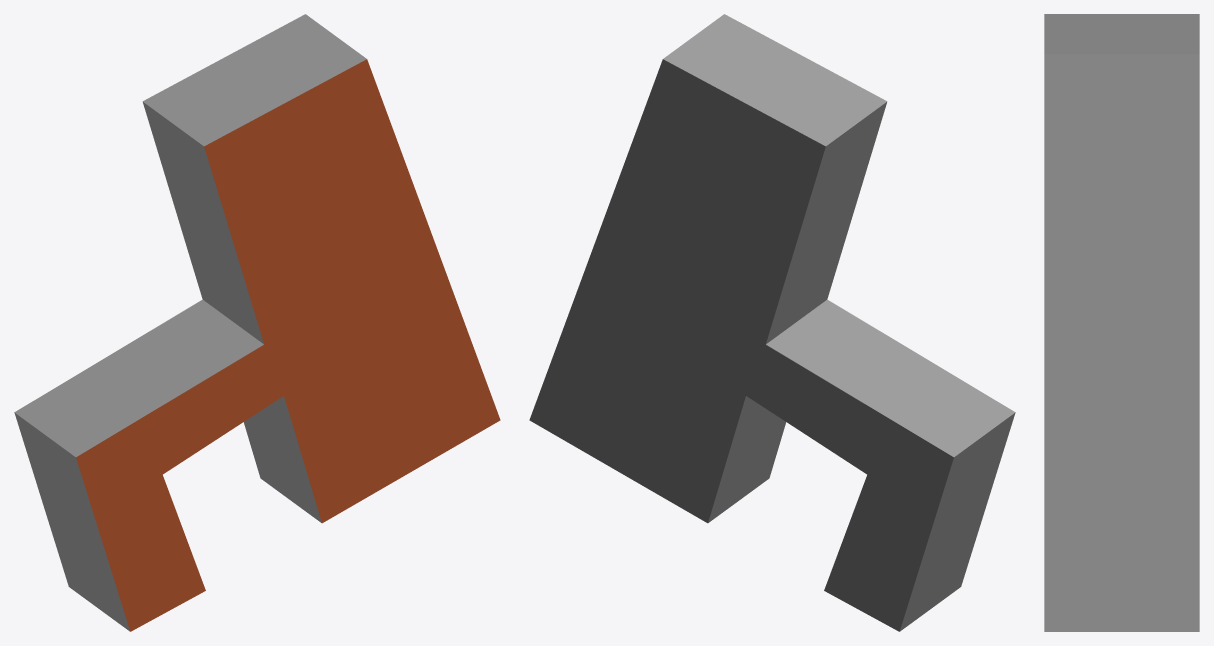
File: construction_4410_assumed_A_Casa_h6m.obj
The picture shows the model from 3 angles, left to right: view 1: azimuth 30°, elevation 25°; view 2: azimuth 150°, elevation 25°; view 3: azimuth 270°, elevation 25°; orthographic projection. The views are drawn at different scales.
Parts seen in each view (by area): view 1: construction_4410_assumed_A_Casa; view 2: construction_4410_assumed_A_Casa; view 3: construction_4410_assumed_A_Casa.
Boxes of the visible parts, bbox=[...] form: construction_4410_assumed_A_Casa: bbox=[14, 14, 500, 631]; construction_4410_assumed_A_Casa: bbox=[529, 14, 1015, 631]; construction_4410_assumed_A_Casa: bbox=[1044, 14, 1199, 631].
Bounding box in the file's own units: 23.89 × 27.69 × 6.
